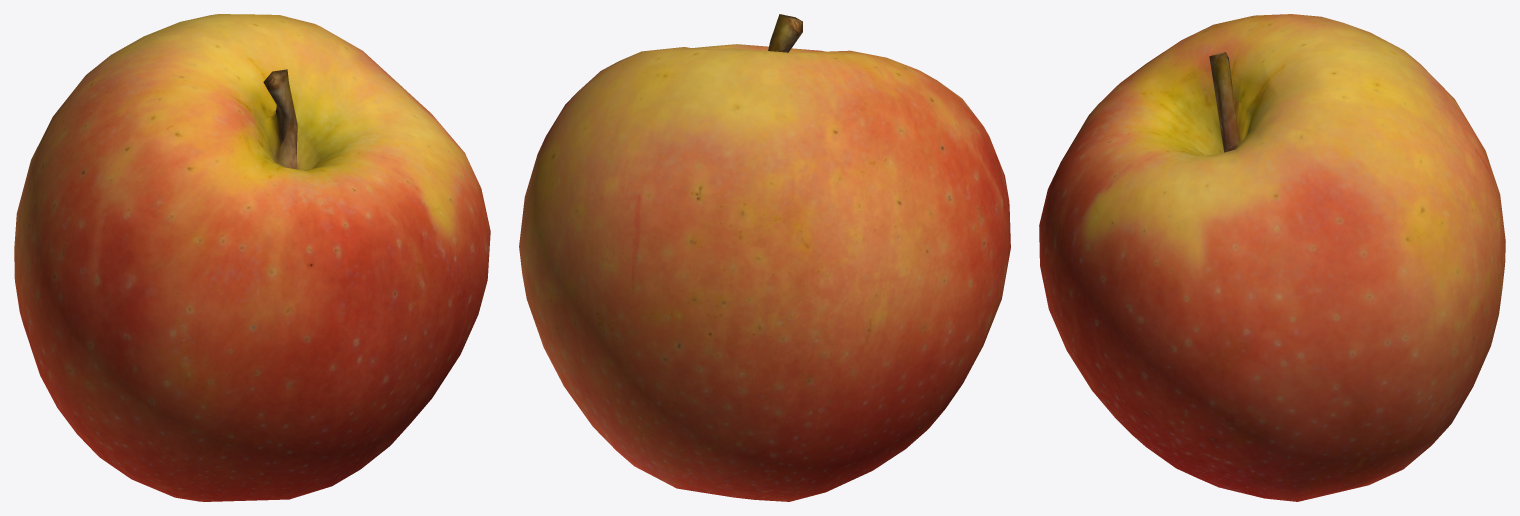
File: model-ultra.gltf
3 views of the same model, side by side, from view 1: azimuth 30°, elevation 25°; view 2: azimuth 150°, elevation 25°; view 3: azimuth 270°, elevation 25° (orthographic). The views are drawn at different scales.
Visible parts, largest first — view 1: 3DApple002-0; view 2: 3DApple002-0; view 3: 3DApple002-0.
Boxes of the visible parts, <box> form: 3DApple002-0: <box>14,14,490,501</box>; 3DApple002-0: <box>519,14,1010,501</box>; 3DApple002-0: <box>1039,14,1505,501</box>.
Size of the model in its own units: 1.03 by 1 by 1.02.
Materials: 1 (1 with a texture image).
